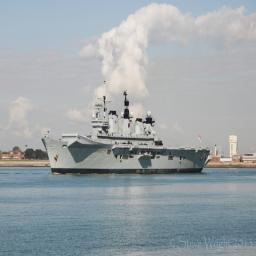Portanaves: (42, 80, 213, 178)
